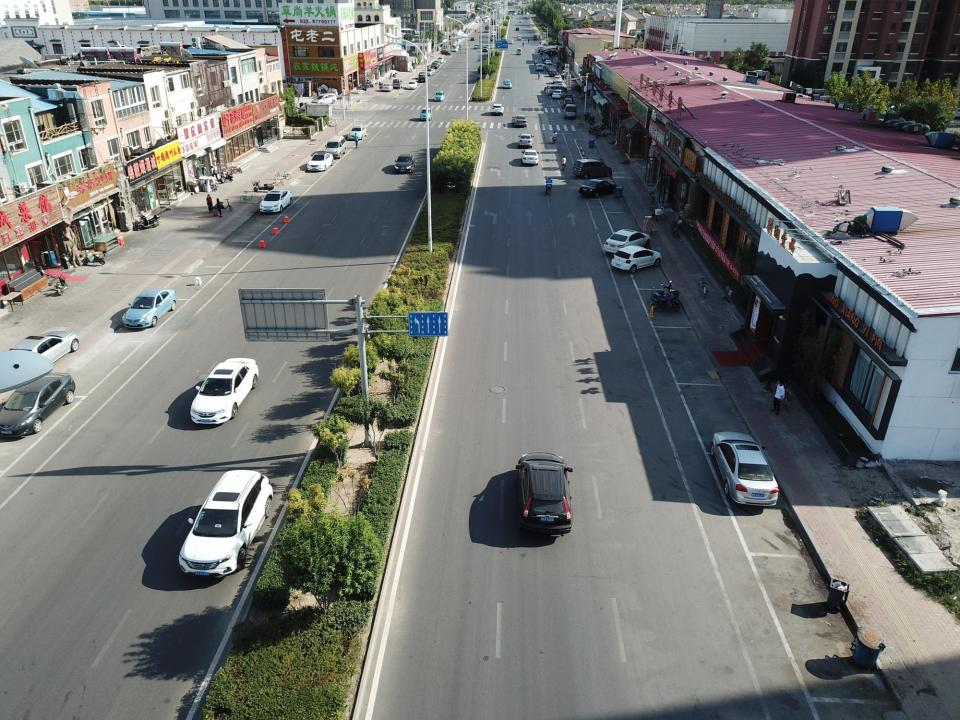bus: (484, 25, 491, 33)
car: (177, 468, 273, 579), (710, 430, 778, 506), (0, 371, 76, 439), (188, 357, 261, 424), (516, 452, 572, 537), (3, 329, 81, 380), (122, 286, 176, 329), (612, 244, 663, 274), (603, 229, 650, 253), (259, 190, 292, 213), (579, 179, 617, 198), (307, 152, 333, 172), (394, 154, 416, 174), (348, 125, 367, 140), (522, 149, 539, 165), (518, 133, 534, 147), (511, 114, 527, 128), (544, 84, 567, 92), (419, 108, 433, 121), (490, 103, 504, 114), (433, 90, 445, 102), (552, 90, 566, 99), (382, 83, 394, 92), (563, 98, 572, 108), (407, 80, 417, 88), (554, 74, 562, 83), (561, 70, 570, 78), (544, 50, 556, 56), (503, 80, 512, 88), (440, 49, 452, 55), (419, 74, 427, 82), (425, 69, 434, 76), (553, 80, 563, 86), (544, 41, 556, 46), (546, 62, 553, 70), (419, 71, 426, 79), (538, 46, 545, 53), (549, 70, 557, 76), (545, 60, 551, 68), (540, 49, 552, 53), (432, 61, 440, 67), (548, 66, 555, 72), (543, 56, 549, 63), (537, 46, 544, 52), (537, 63, 543, 70), (431, 63, 438, 69), (436, 58, 443, 64), (451, 47, 458, 53), (482, 46, 489, 52), (484, 43, 491, 49), (542, 54, 548, 60), (451, 44, 457, 50), (550, 68, 556, 73), (508, 39, 513, 44), (474, 44, 479, 49), (470, 36, 475, 40), (539, 48, 543, 52), (515, 27, 519, 31), (520, 20, 524, 24)
truck: (297, 102, 333, 120)
van: (572, 159, 613, 178), (324, 136, 347, 159), (311, 92, 336, 106), (564, 104, 577, 120), (547, 84, 563, 94), (393, 78, 402, 89), (564, 94, 573, 104), (516, 48, 522, 55), (533, 34, 538, 40), (516, 35, 522, 40), (492, 31, 496, 36)
